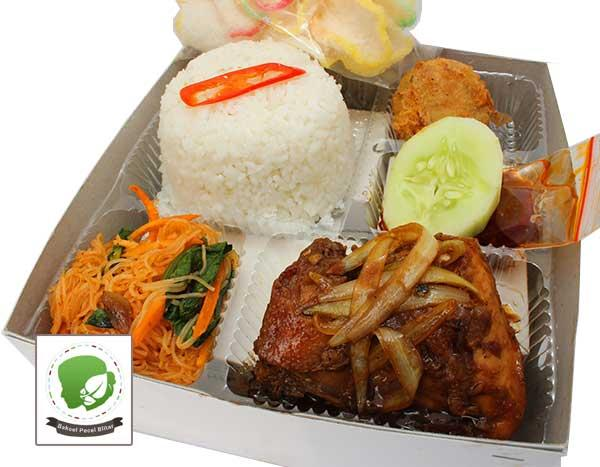buah_sayur_lainnya: (412, 133, 480, 214)
daging: (302, 258, 485, 379)
makanan_berpati: (194, 120, 332, 207), (87, 231, 207, 322), (412, 68, 479, 109)
